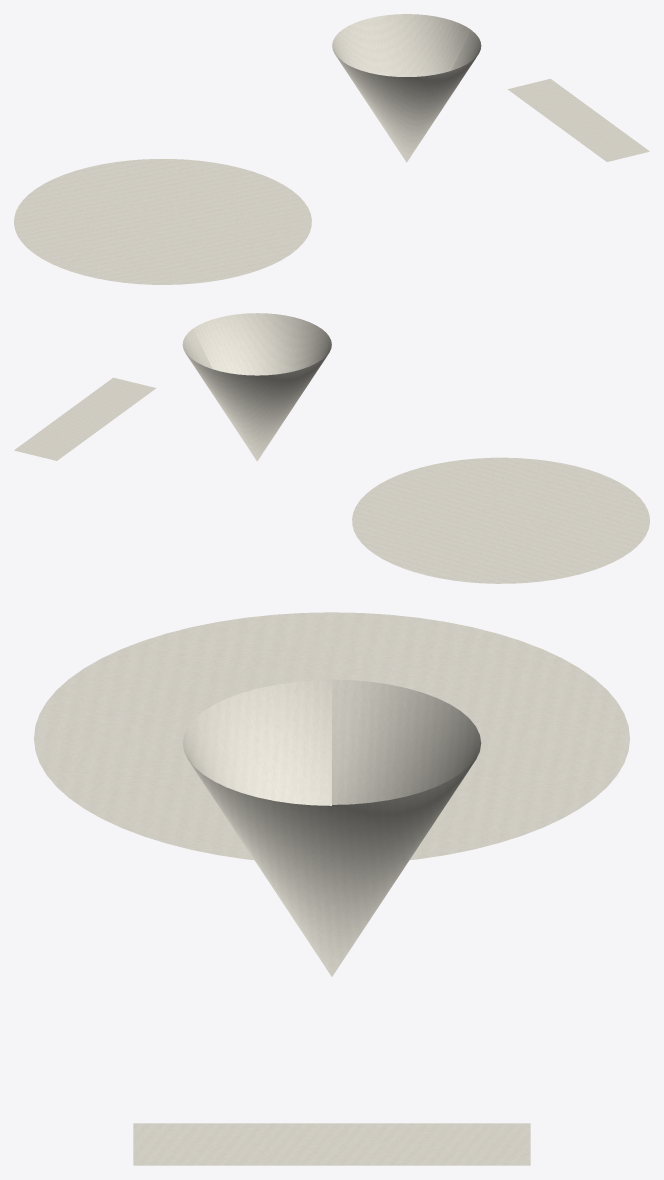
Rendered from VLAB_filter_paper.fbx.
3 renders of one model, top to bottom at view 1: azimuth 30°, elevation 25°; view 2: azimuth 150°, elevation 25°; view 3: azimuth 270°, elevation 25°, orthographic. The views are drawn at different scales.
Visible parts, largest first — view 1: VLAB_filter_paper_Disc_VIS, VLAB_filter_paper_FoldedCone_VIS, VLAB_filter_paper_Strip_VIS; view 2: VLAB_filter_paper_Disc_VIS, VLAB_filter_paper_FoldedCone_VIS, VLAB_filter_paper_Strip_VIS; view 3: VLAB_filter_paper_Disc_VIS, VLAB_filter_paper_FoldedCone_VIS, VLAB_filter_paper_Strip_VIS.
Part boxes in pixels (x1,y1,x2,y2): VLAB_filter_paper_Disc_VIS: [14, 159, 311, 284]; VLAB_filter_paper_FoldedCone_VIS: [332, 14, 481, 162]; VLAB_filter_paper_Strip_VIS: [508, 79, 649, 161]; VLAB_filter_paper_Disc_VIS: [352, 457, 649, 583]; VLAB_filter_paper_FoldedCone_VIS: [182, 313, 331, 461]; VLAB_filter_paper_Strip_VIS: [14, 377, 155, 460]; VLAB_filter_paper_Disc_VIS: [34, 612, 629, 860]; VLAB_filter_paper_FoldedCone_VIS: [182, 679, 481, 976]; VLAB_filter_paper_Strip_VIS: [133, 1123, 530, 1165].
Bounding box in the file's own units: 0.1975 × 0.0392 × 0.09.
